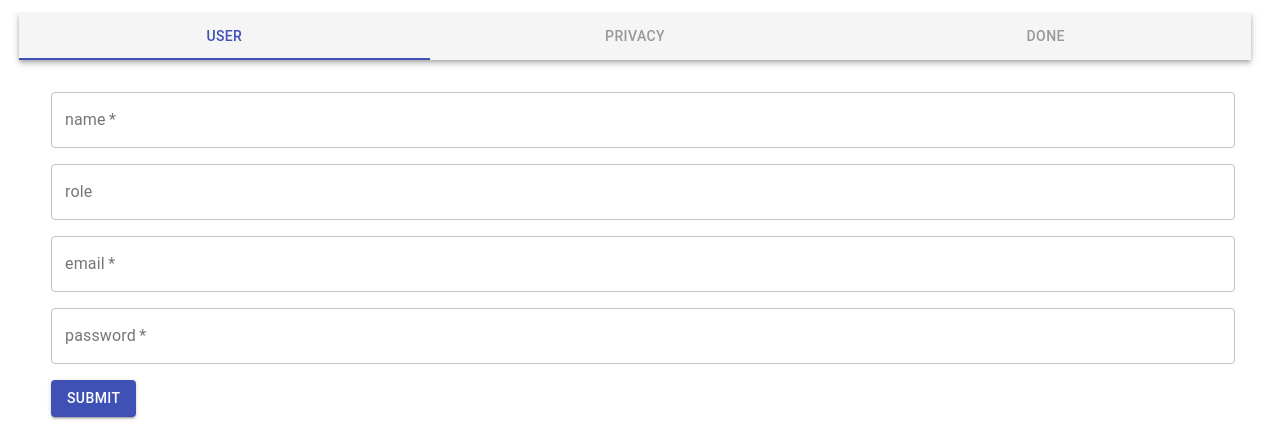
Test: test sign up page › tests happy path
In the field next to "name": (643, 120) [51,92,1235,148], type "name"
In the field next to "role": (643, 192) [51,164,1235,220], type "role"
In the field next to "email": (643, 264) [51,236,1235,292], type "example@example.com"
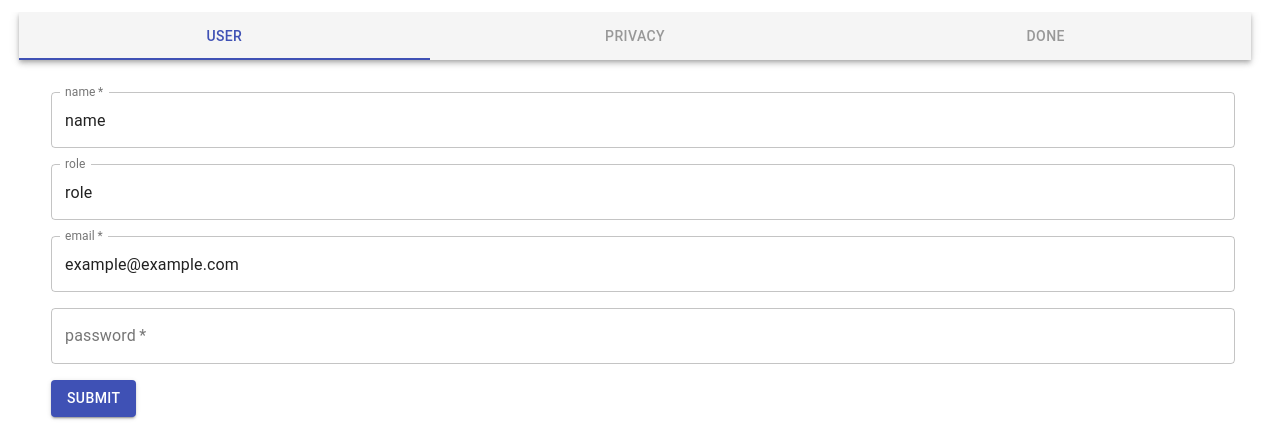
In the password field: (643, 336) [51,308,1235,364], type "1Abcdefgh"
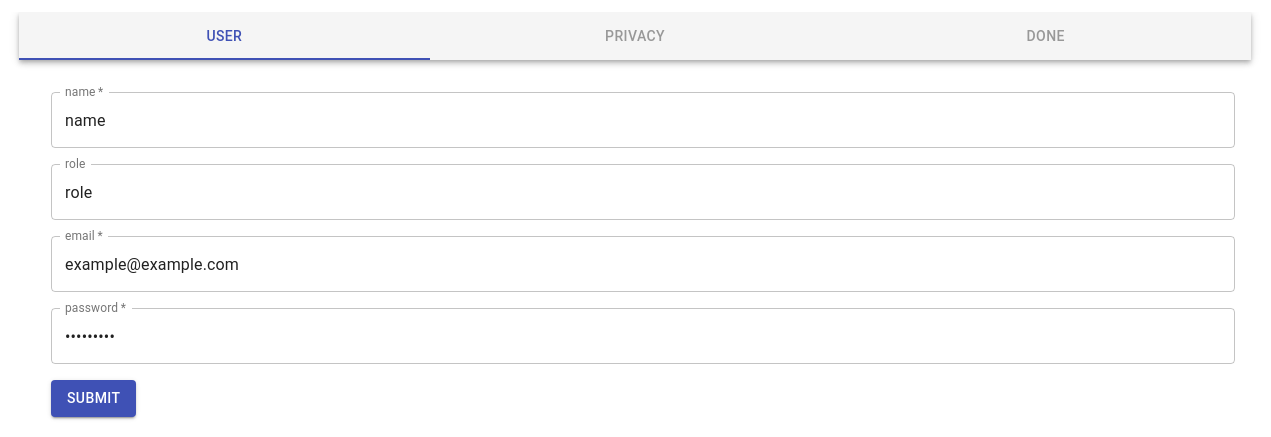
Click the button with test id "components/constants/buttonPrimary": (94, 398) [51,380,136,416]
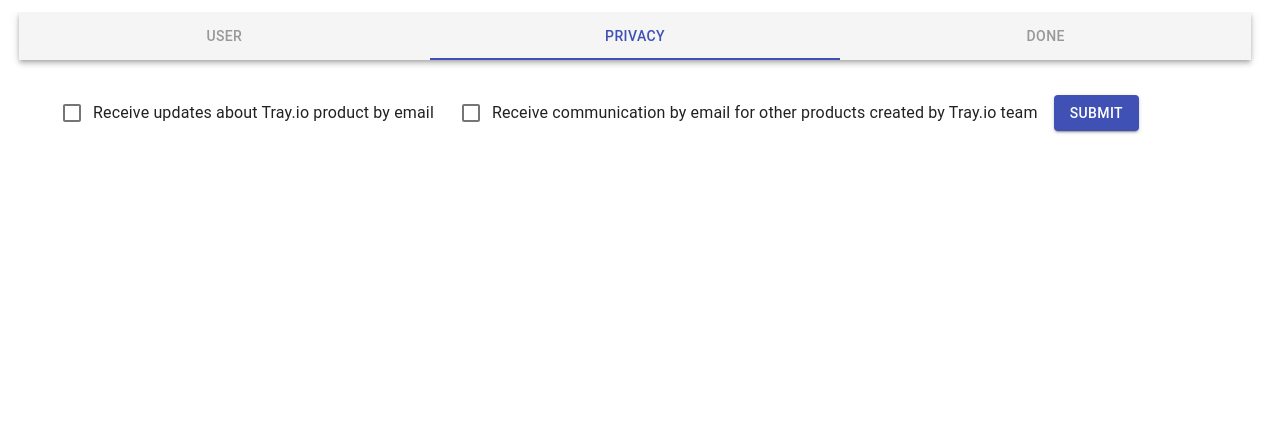
Result: the form with test id "components/signUpPrivacyForm" is shown at [43,84,1227,142]
Click the checkbox labelled "Receive updates about Tray.io product by email": (247, 113) [60,101,434,125]
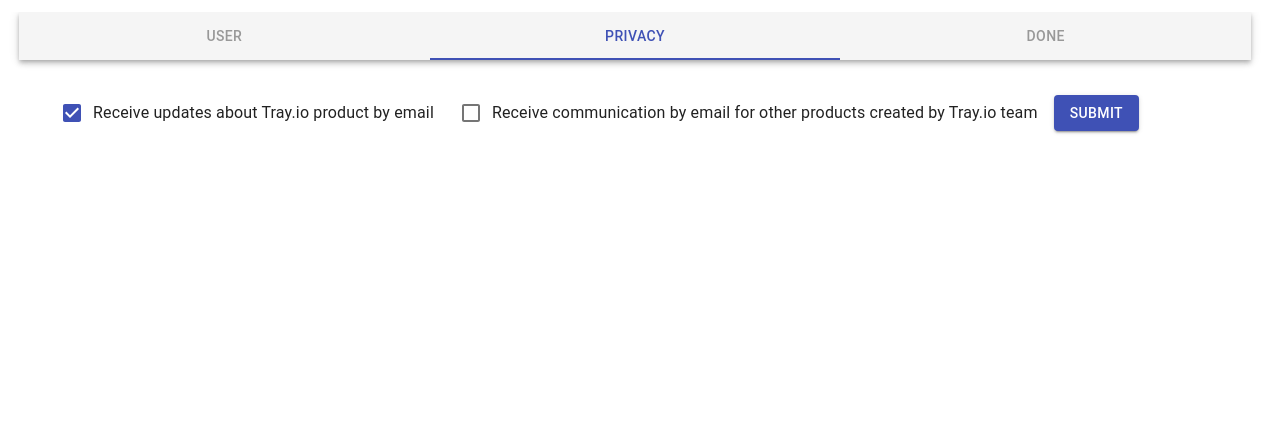
Click the 2nd checkbox: (748, 113) [459,101,1038,125]
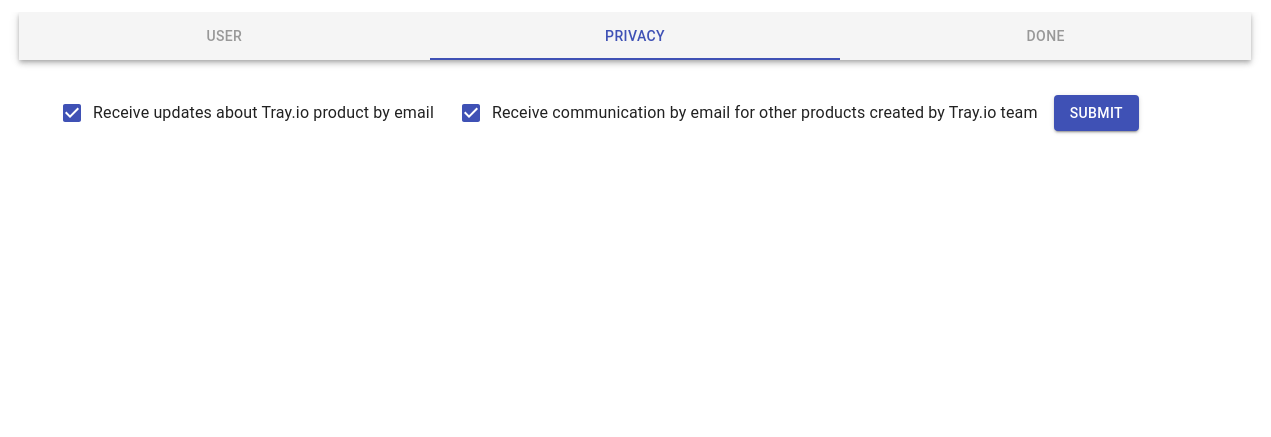
Click the button with test id "components/constants/buttonPrimary": (1096, 113) [1054,95,1139,131]
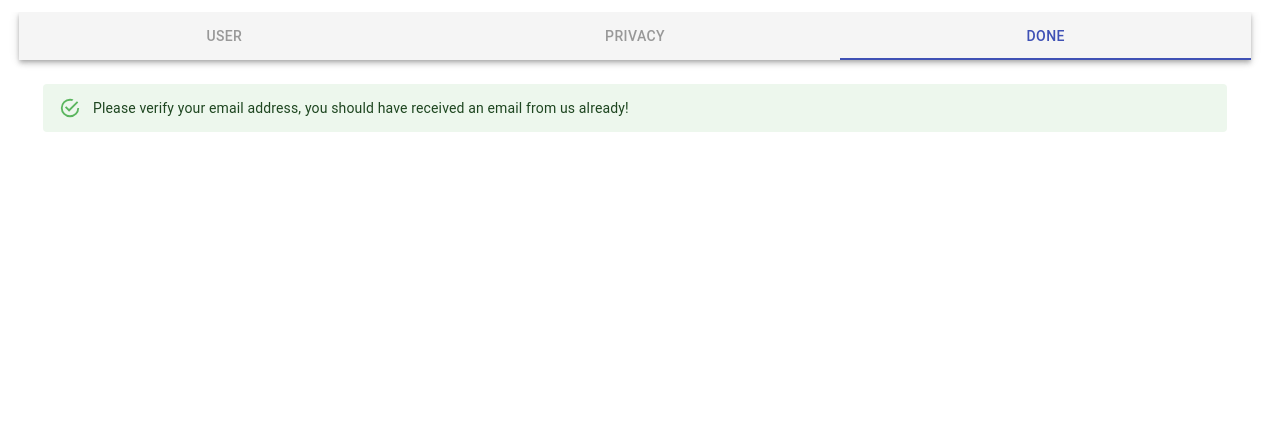
Result: the element with test id "components/signUpDone" is shown at [43,84,1227,132]
